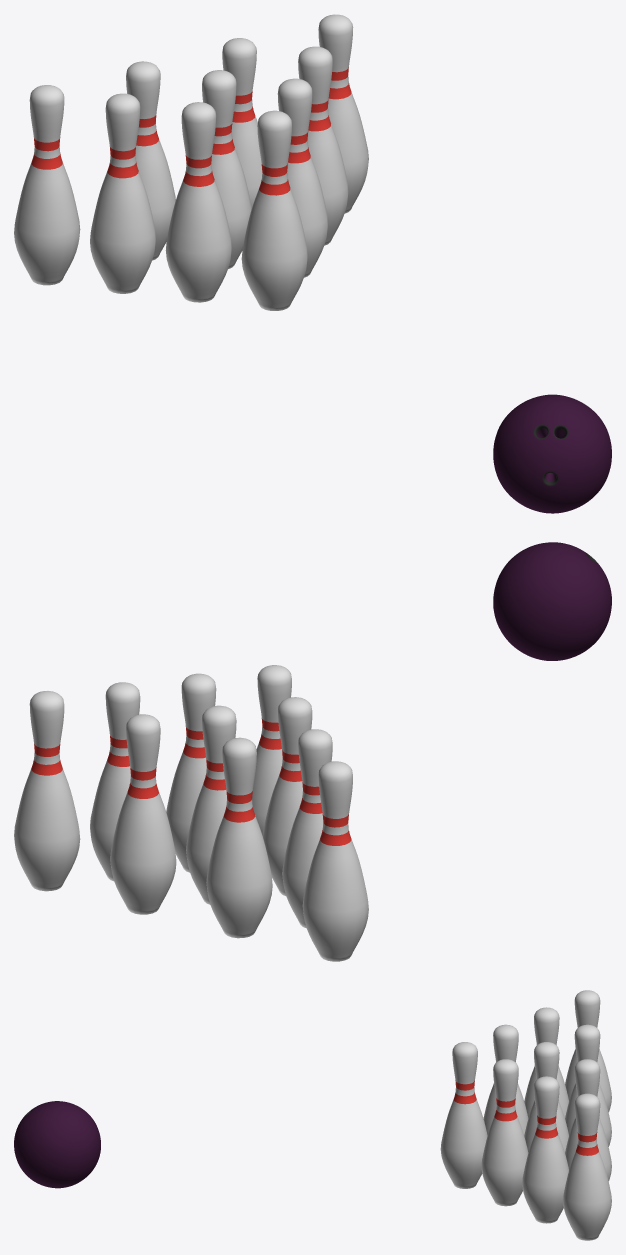
Rendered from Bowling.fbx.
The picture shows the model from 3 angles, top to bottom: view 1: azimuth 30°, elevation 25°; view 2: azimuth 150°, elevation 25°; view 3: azimuth 270°, elevation 25°; orthographic projection. The views are drawn at different scales.
Parts seen in each view (by area): view 1: Bowling Ball, Bowling Pin.005, Bowling Pin.008, Bowling Pin.003, Bowling Pin, Bowling Pin.009, Bowling Pin.002, Bowling Pin.004, Bowling Pin.007, Bowling Pin.001, Bowling Pin.006; view 2: Bowling Ball, Bowling Pin.006, Bowling Pin.007, Bowling Pin.008, Bowling Pin.009, Bowling Pin.001, Bowling Pin.005, Bowling Pin.004, Bowling Pin.002, Bowling Pin.003, Bowling Pin; view 3: Bowling Ball, Bowling Pin.009, Bowling Pin.002, Bowling Pin.004, Bowling Pin, Bowling Pin.006, Bowling Pin.007, Bowling Pin.008, Bowling Pin.003, Bowling Pin.001, Bowling Pin.005.
Part boxes in pixels (bbox=[...]): Bowling Ball: bbox=[493, 394, 611, 513]; Bowling Pin.005: bbox=[90, 93, 155, 293]; Bowling Pin.008: bbox=[14, 85, 80, 285]; Bowling Pin.003: bbox=[165, 102, 231, 302]; Bowling Pin: bbox=[241, 110, 307, 310]; Bowling Pin.009: bbox=[318, 14, 368, 213]; Bowling Pin.002: bbox=[277, 78, 328, 277]; Bowling Pin.004: bbox=[298, 46, 348, 245]; Bowling Pin.007: bbox=[126, 61, 175, 260]; Bowling Pin.001: bbox=[202, 70, 251, 268]; Bowling Pin.006: bbox=[222, 38, 262, 208]; Bowling Ball: bbox=[493, 542, 611, 660]; Bowling Pin.006: bbox=[110, 714, 176, 914]; Bowling Pin.007: bbox=[206, 737, 272, 938]; Bowling Pin.008: bbox=[302, 761, 368, 961]; Bowling Pin.009: bbox=[14, 691, 80, 891]; Bowling Pin.001: bbox=[186, 705, 236, 904]; Bowling Pin.005: bbox=[282, 729, 332, 928]; Bowling Pin.004: bbox=[90, 682, 140, 881]; Bowling Pin.002: bbox=[166, 673, 216, 872]; Bowling Pin.003: bbox=[262, 697, 312, 895]; Bowling Pin: bbox=[252, 665, 291, 835]; Bowling Ball: bbox=[14, 1101, 100, 1188]; Bowling Pin.009: bbox=[563, 1093, 611, 1240]; Bowling Pin.002: bbox=[481, 1059, 528, 1206]; Bowling Pin.004: bbox=[522, 1076, 568, 1223]; Bowling Pin: bbox=[440, 1042, 487, 1188]; Bowling Pin.006: bbox=[565, 1059, 611, 1180]; Bowling Pin.007: bbox=[565, 1024, 611, 1146]; Bowling Pin.008: bbox=[565, 990, 611, 1111]; Bowling Pin.003: bbox=[483, 1024, 528, 1135]; Bowling Pin.001: bbox=[524, 1042, 568, 1152]; Bowling Pin.005: bbox=[524, 1007, 568, 1117].
Bounding box in the file's own units: 72.03 × 38.05 × 147.
